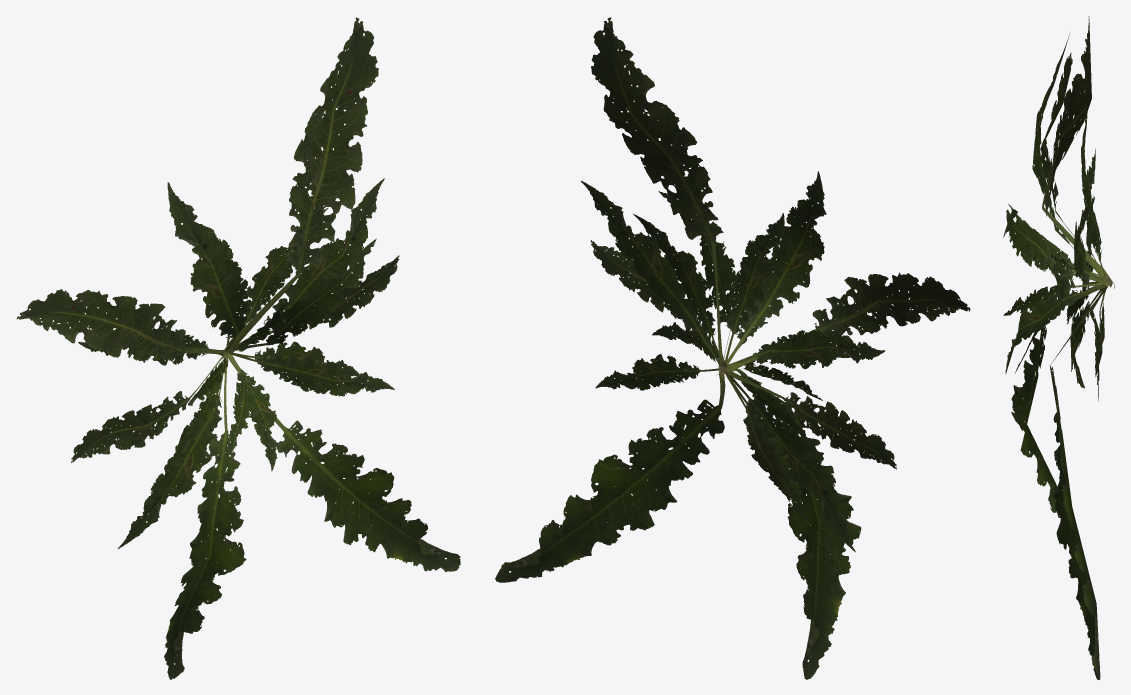
File: Weed_03_Var3_LOD0.fbx
3 views of the same model, side by side, from view 1: azimuth 30°, elevation 25°; view 2: azimuth 150°, elevation 25°; view 3: azimuth 270°, elevation 25° (orthographic). The views are drawn at different scales.
Visible parts, largest first — view 1: Var3_LOD0; view 2: Var3_LOD0; view 3: Var3_LOD0.
Boxes of the visible parts, bbox=[...] form: Var3_LOD0: bbox=[16, 17, 460, 679]; Var3_LOD0: bbox=[495, 17, 970, 679]; Var3_LOD0: bbox=[1003, 16, 1115, 679].
Size of the model in its own units: 56.42 by 72.07 by 11.66.
